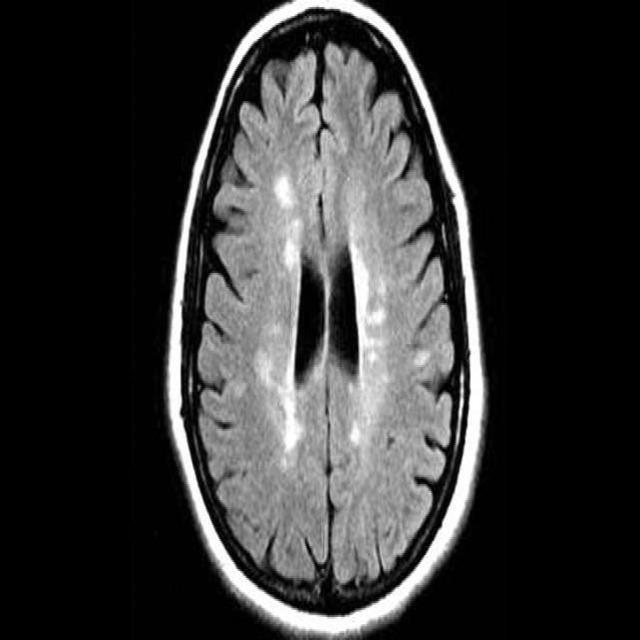notumor: (164, 11, 486, 617)
